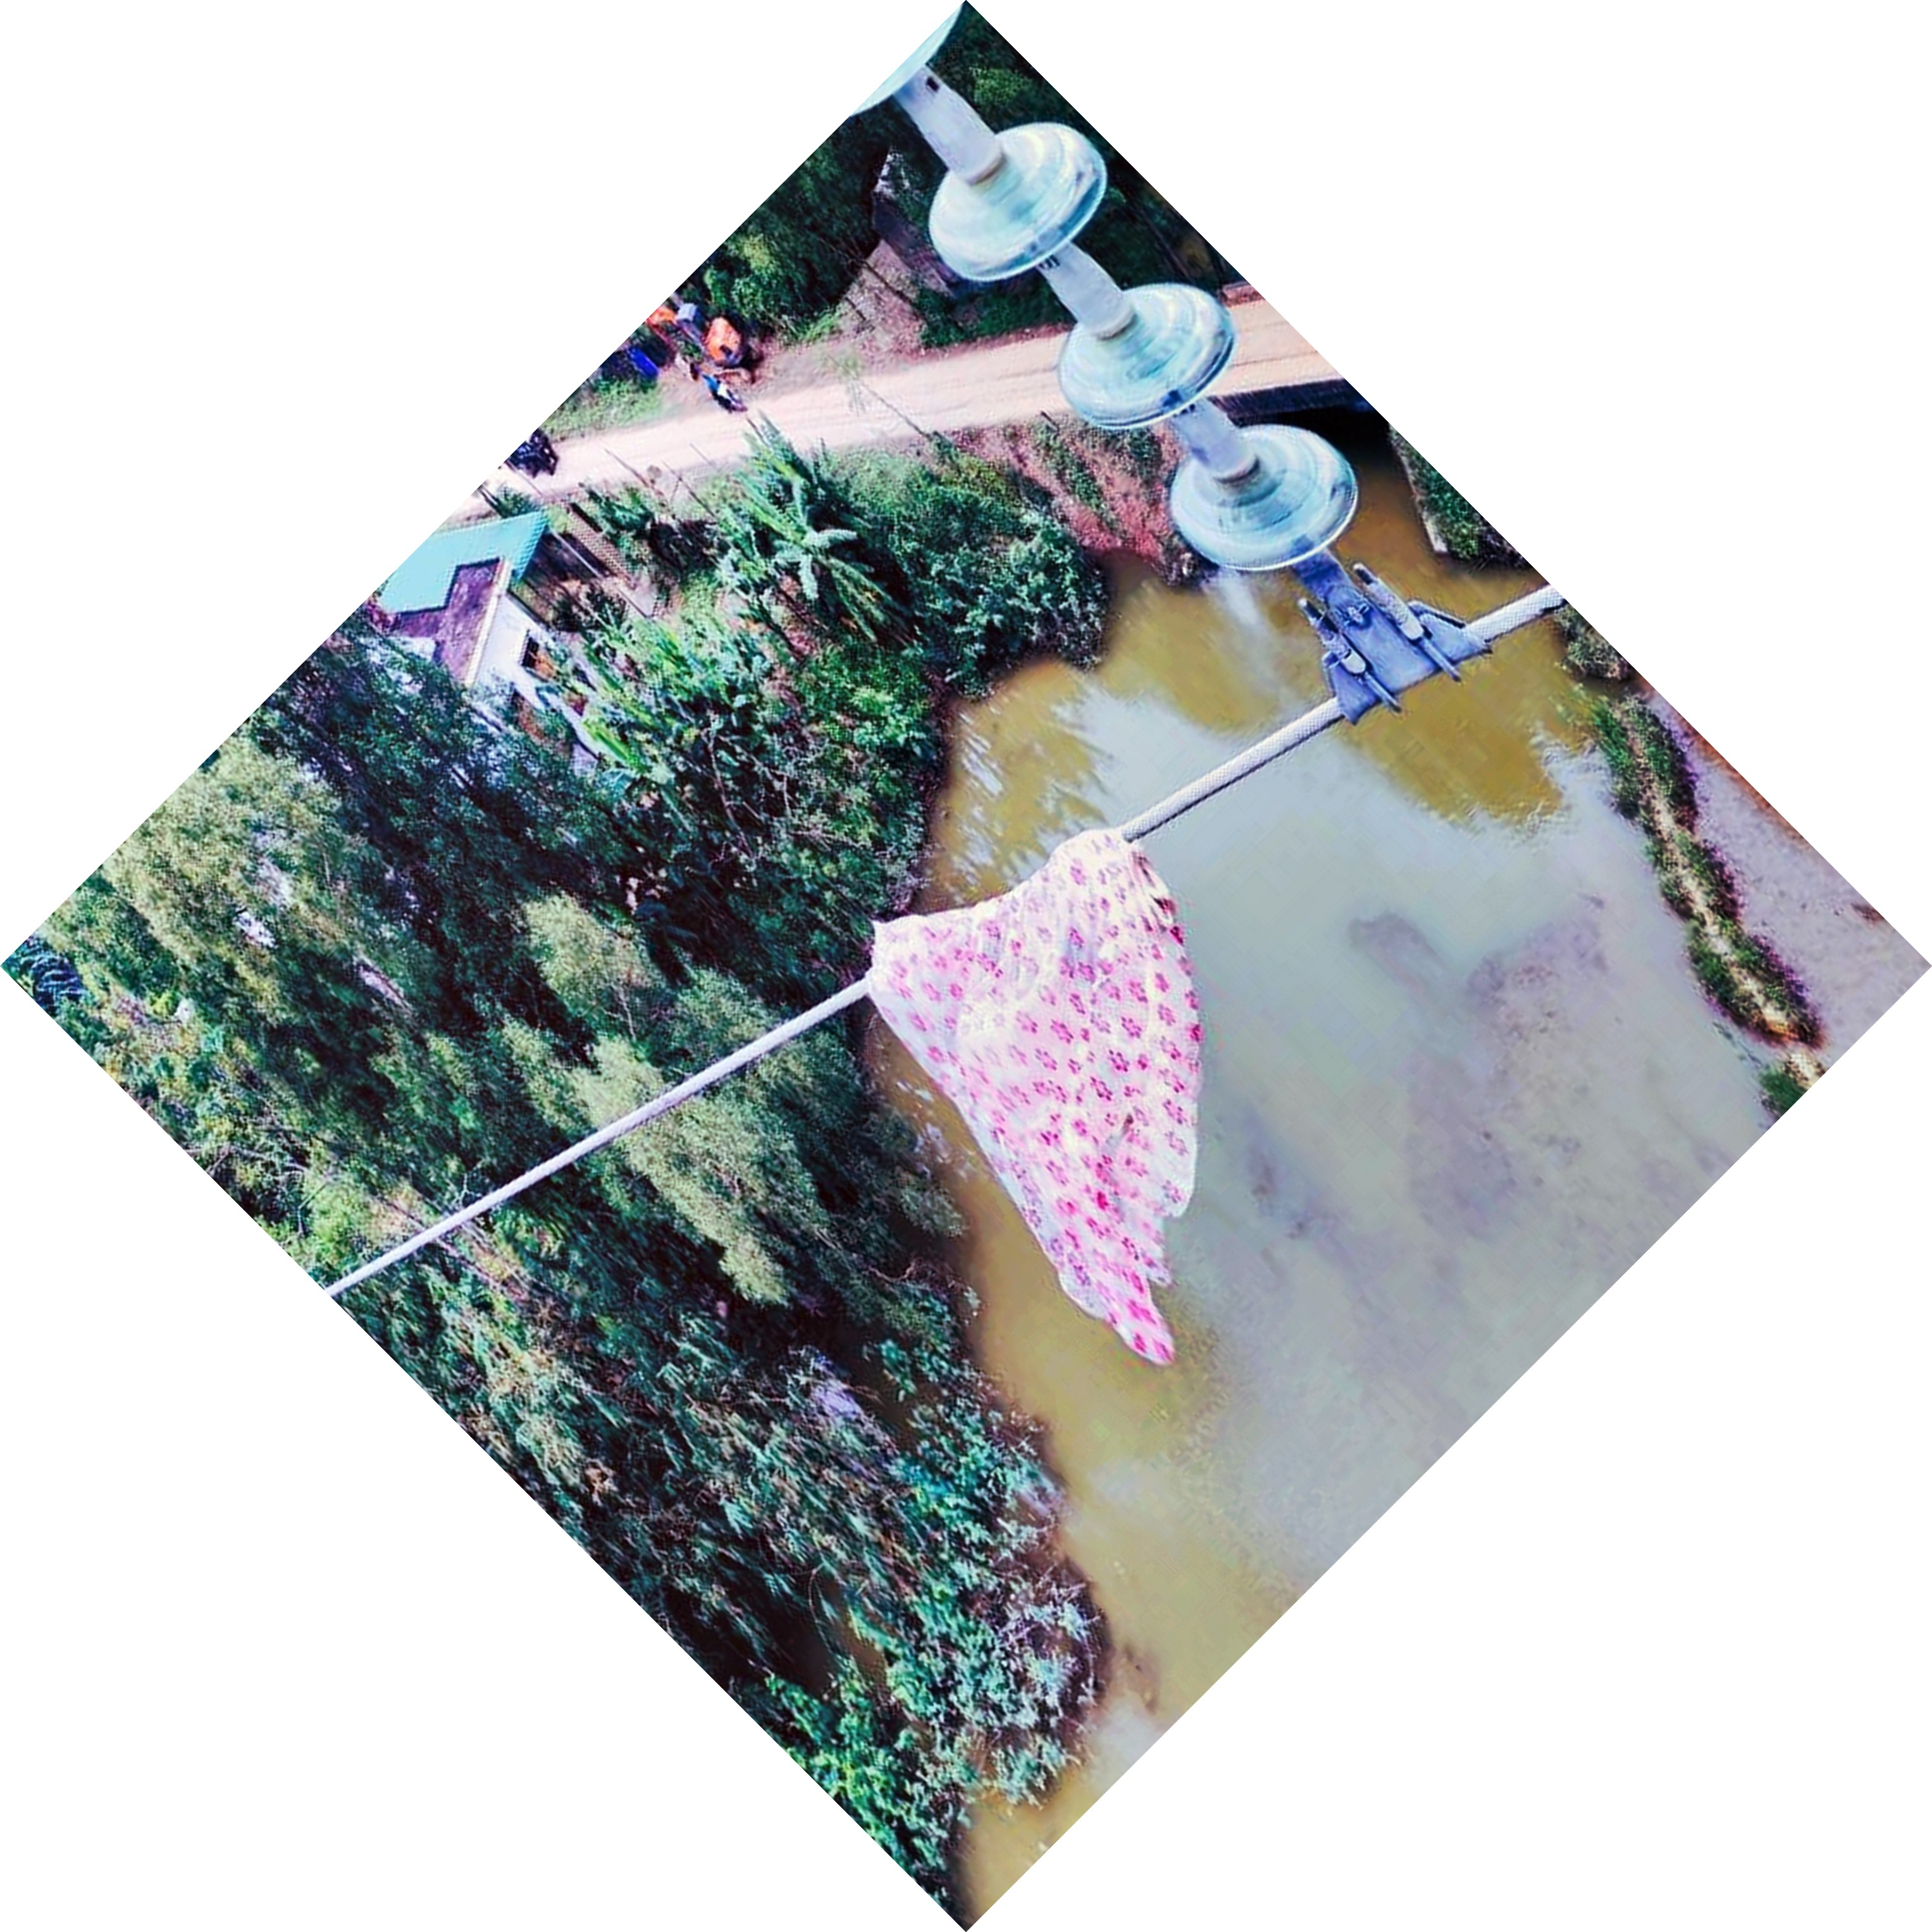wire foreign body: (846, 796, 1286, 1369)
